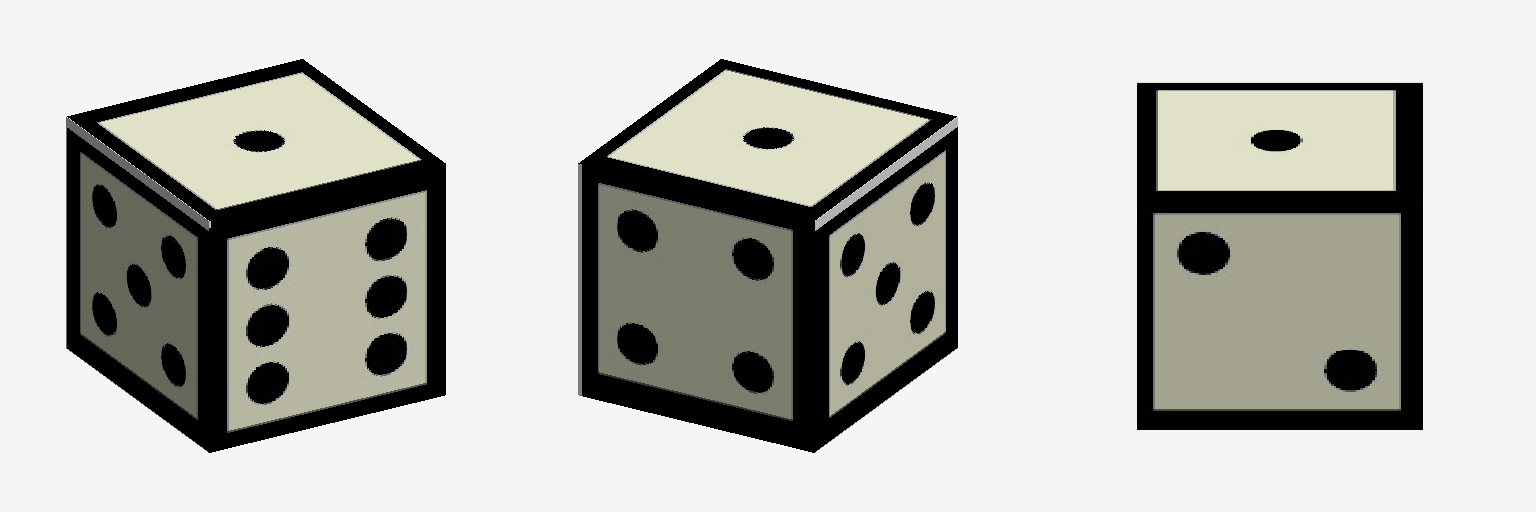
3 renders of one model, left to right at view 1: azimuth 30°, elevation 25°; view 2: azimuth 150°, elevation 25°; view 3: azimuth 270°, elevation 25°, orthographic.
Visible parts, largest first — view 1: Box001; view 2: Box001; view 3: Box001.
Part boxes in pixels (bbox=[...]): Box001: bbox=[66, 59, 445, 452]; Box001: bbox=[578, 59, 957, 452]; Box001: bbox=[1137, 82, 1422, 429].
Size of the model in its own units: 19.49 by 18.24 by 20.4.
Materials: 1 (1 with a texture image).